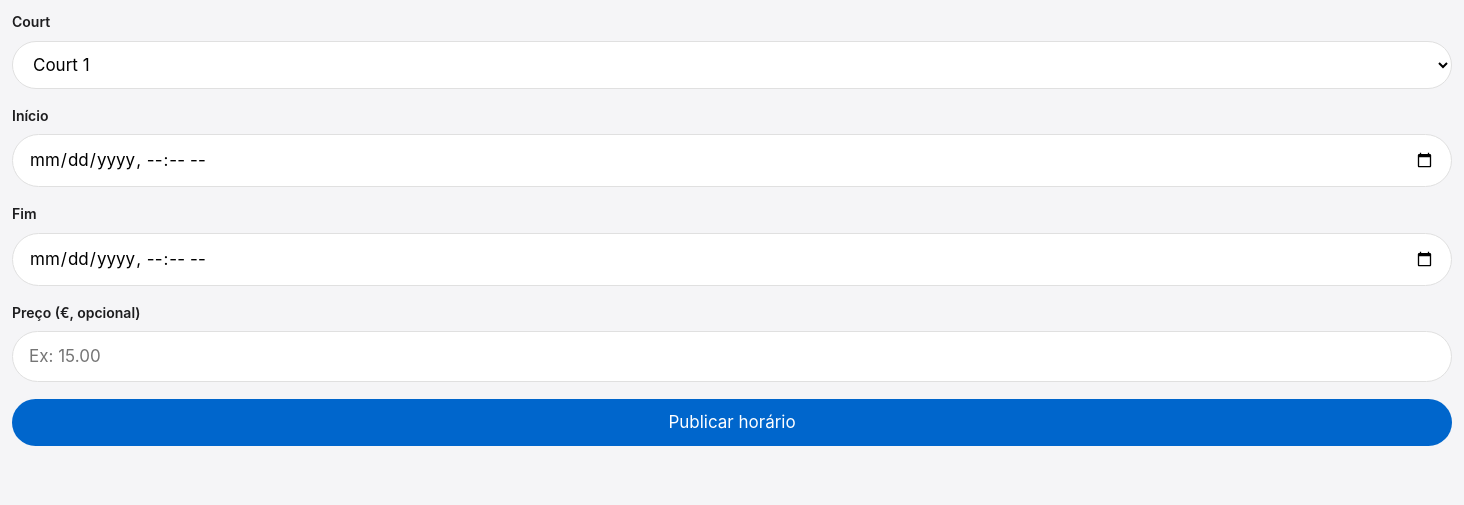
Test: SlotPublisher › validates endsAt must be after startsAt
Type "2026-05-17T12:00" into the field named "data e hora de início" at (732, 161), box [12,134,1452,187]
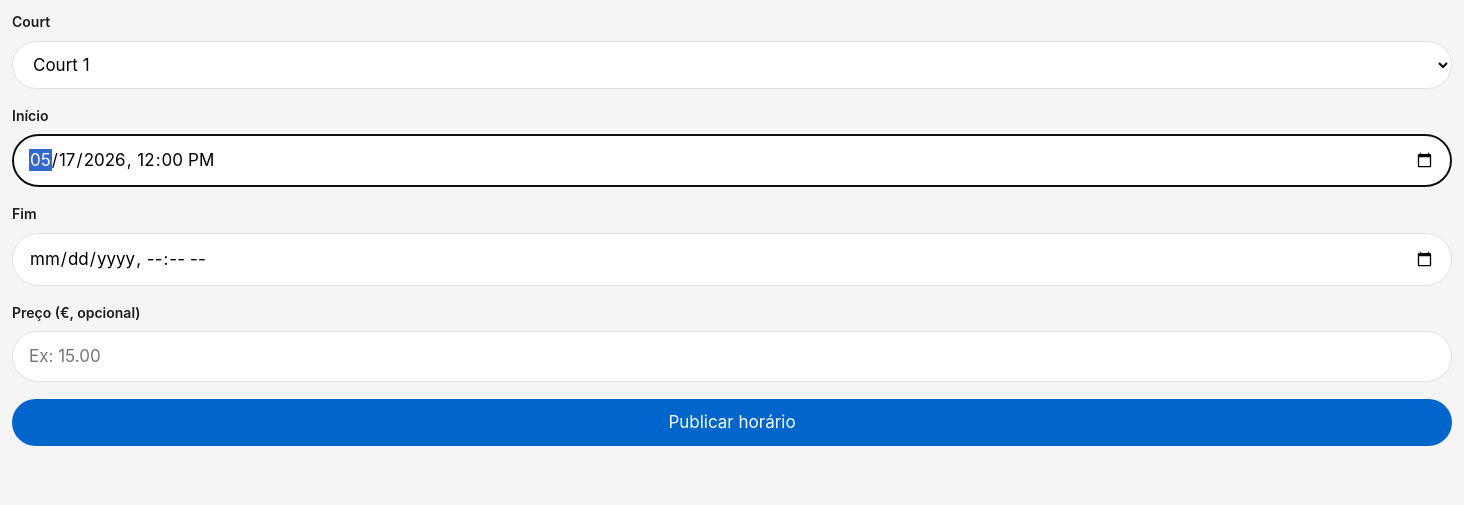
Type "2026-05-17T11:00" into the field named "data e hora de fim" at (732, 259), box [12,233,1452,286]
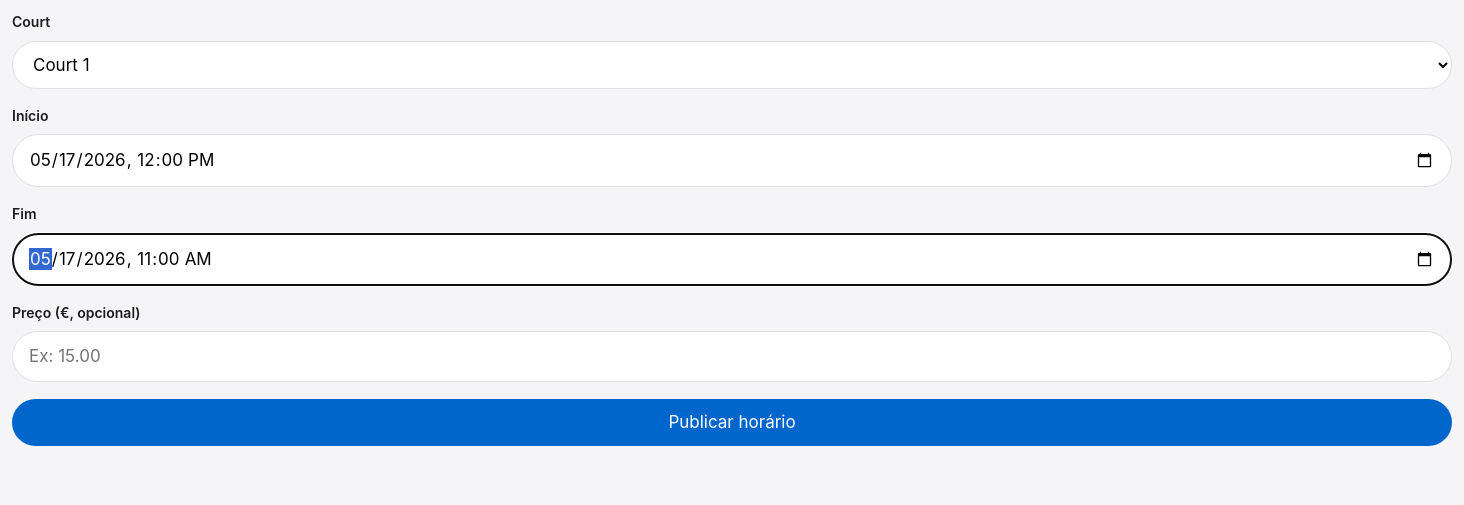
Click the button "Publicar horário" at (732, 423), box [12,399,1452,446]
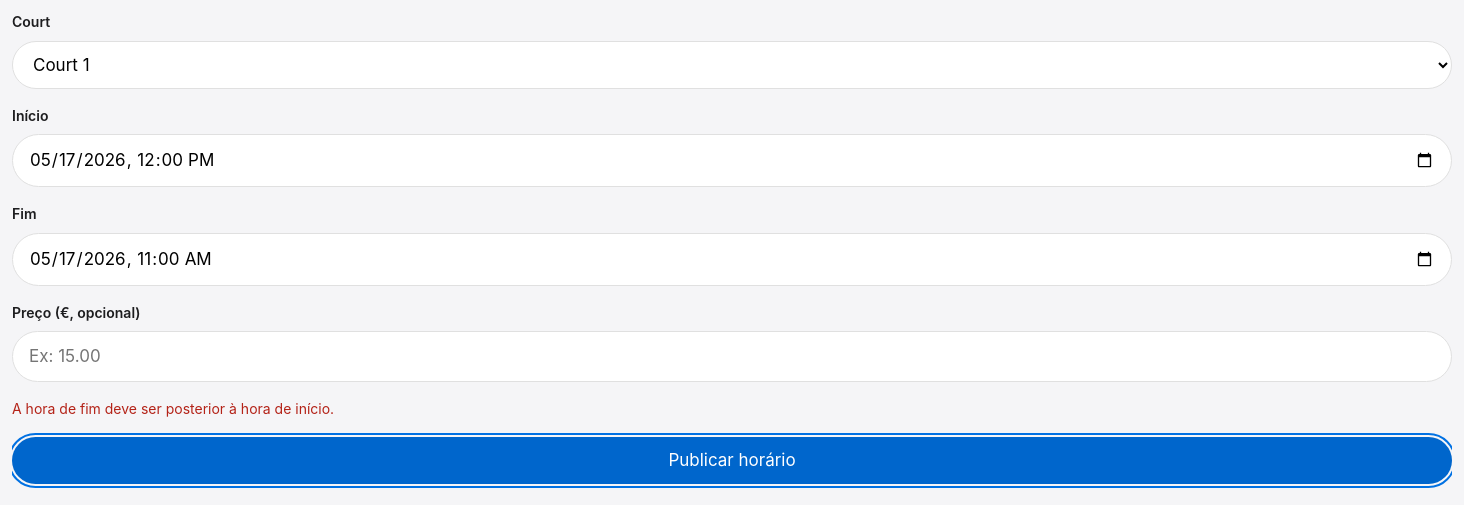
Check: the text "A hora de fim deve ser posterior à hora de início." is shown, box [12,400,334,417]
